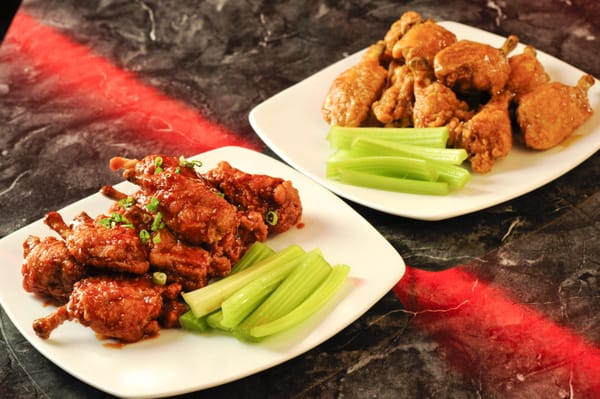curry: (0, 0, 599, 394)
